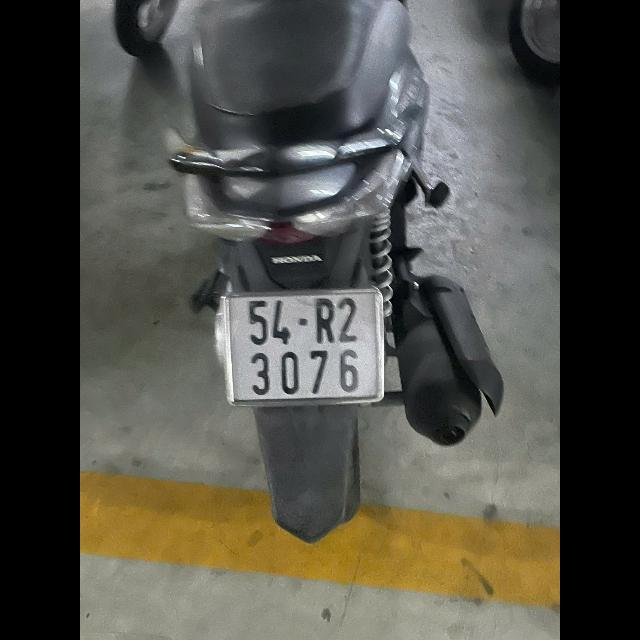BienSoXe: (224, 286, 386, 408)
